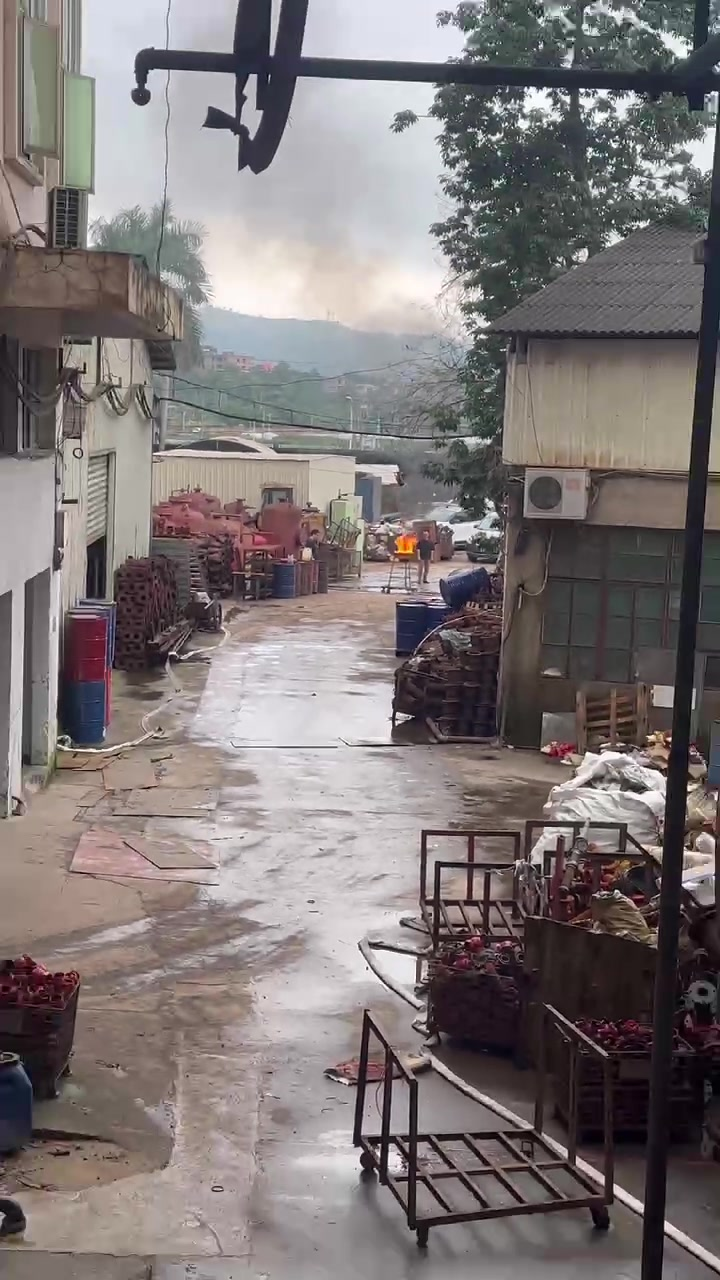fire: (393, 534, 416, 553)
